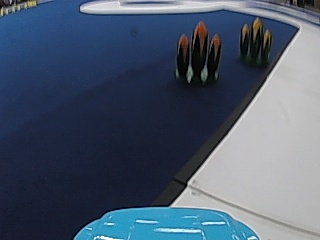corn: (174, 20, 221, 86), (239, 15, 272, 69)
